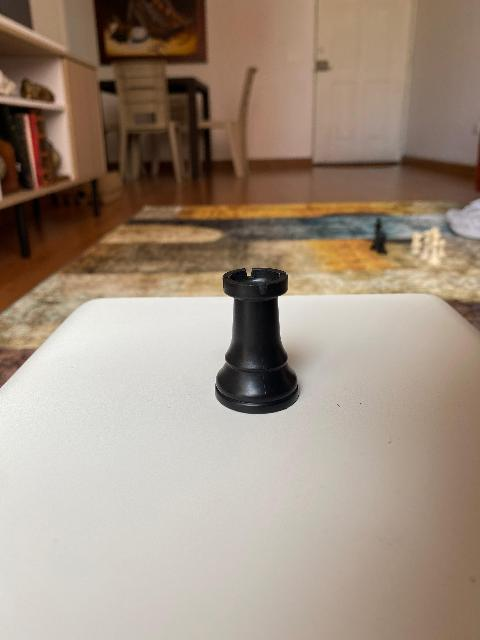black-rook: (214, 266, 300, 414)
